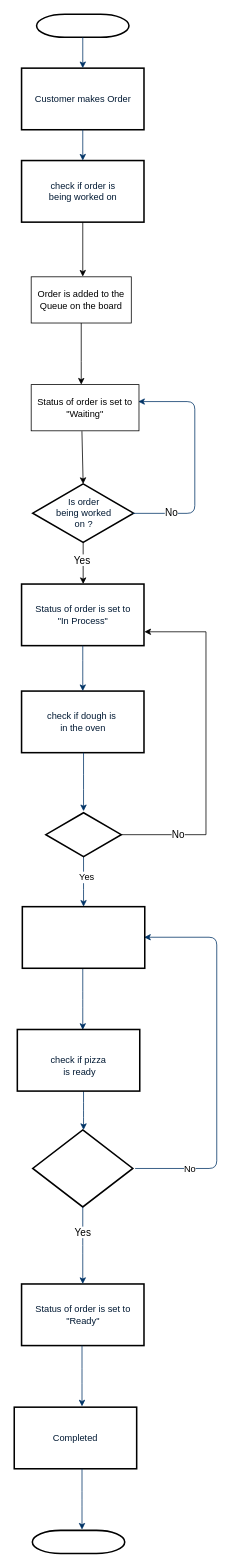
Some shapes in this 236 by 1567 pixel diagram are drawn without their labels. Each missing label, with the centre of its shape:
end: [78,1541]
is dough in the oven?: [83,834]
is pizza ready?: [82,1168]
start: [82,25]
Status of order is set to "In the Oven": [83,937]
